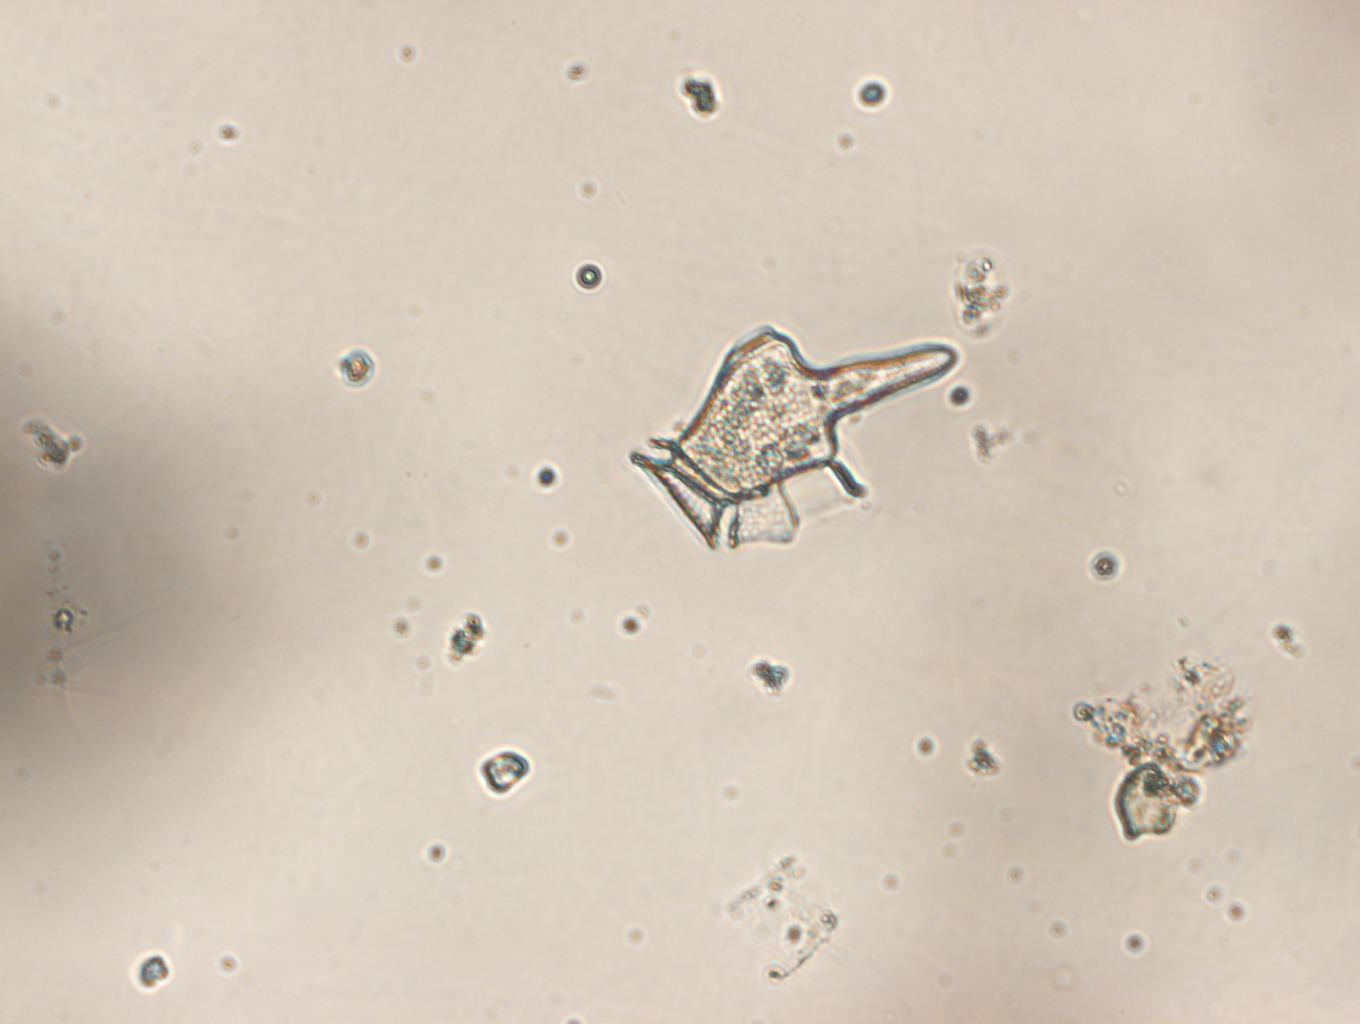dinophysis caudata: (629, 324, 960, 552)
